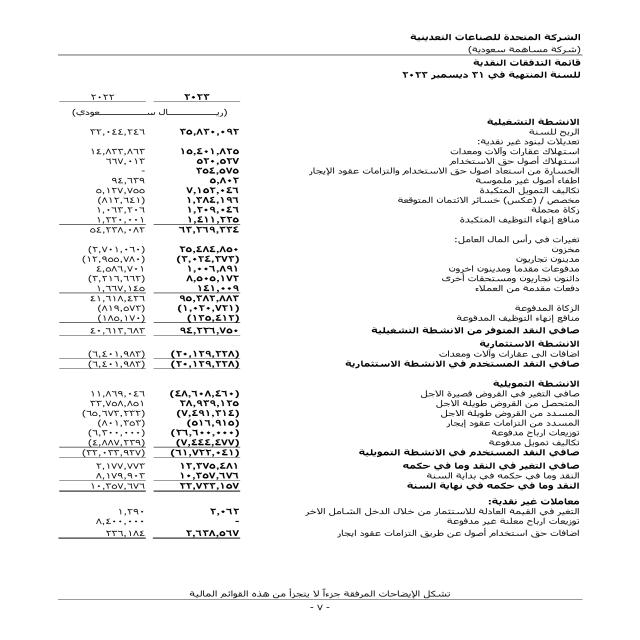financial_sheets: (468, 59, 590, 68)
table: (47, 81, 255, 562)
